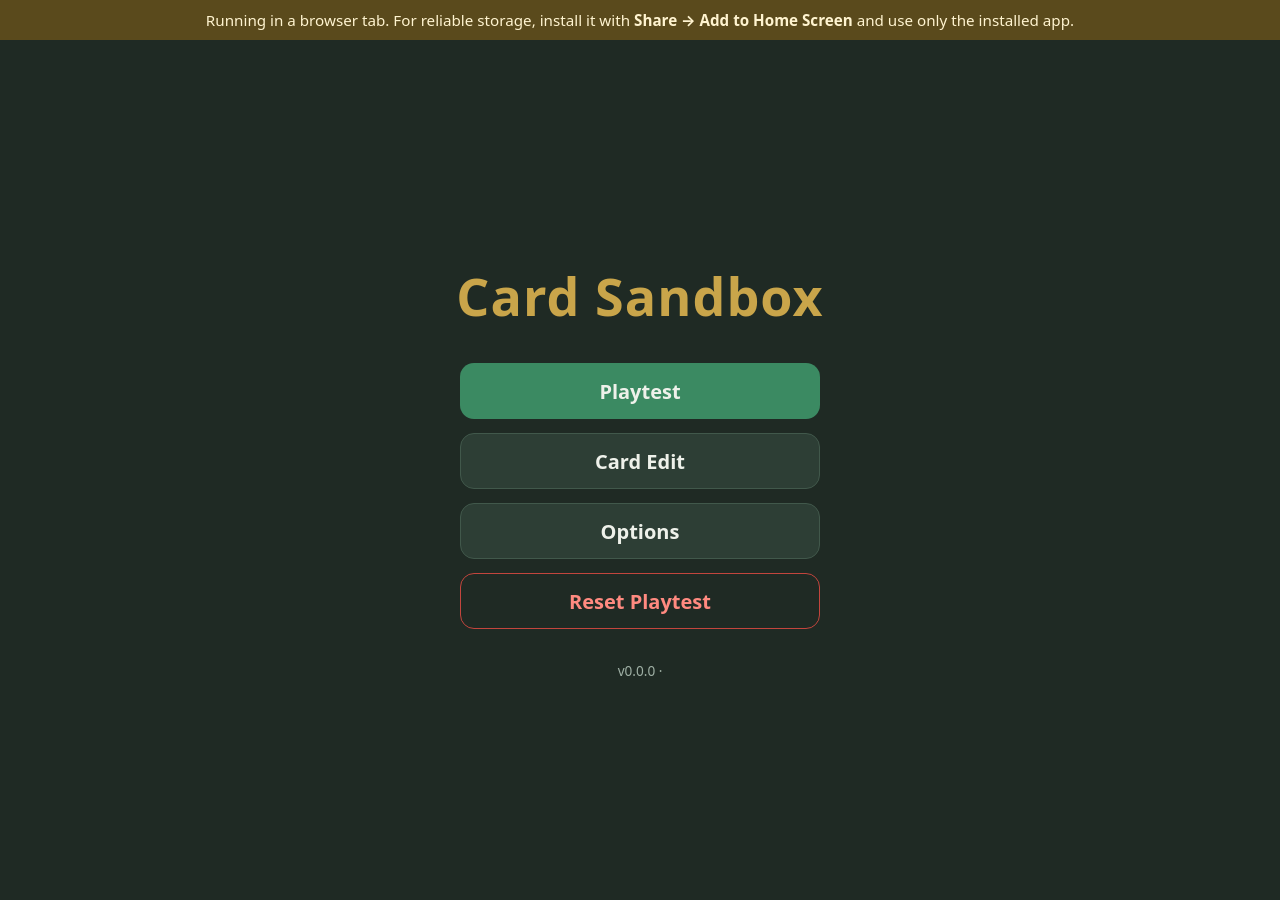
Test: App shell › asks for confirmation before resetting
Expected: the button "Card Edit" is shown, [460, 433, 820, 489]
Click the button "Reset Playtest".
click(640, 601)  # box [460, 573, 820, 629]
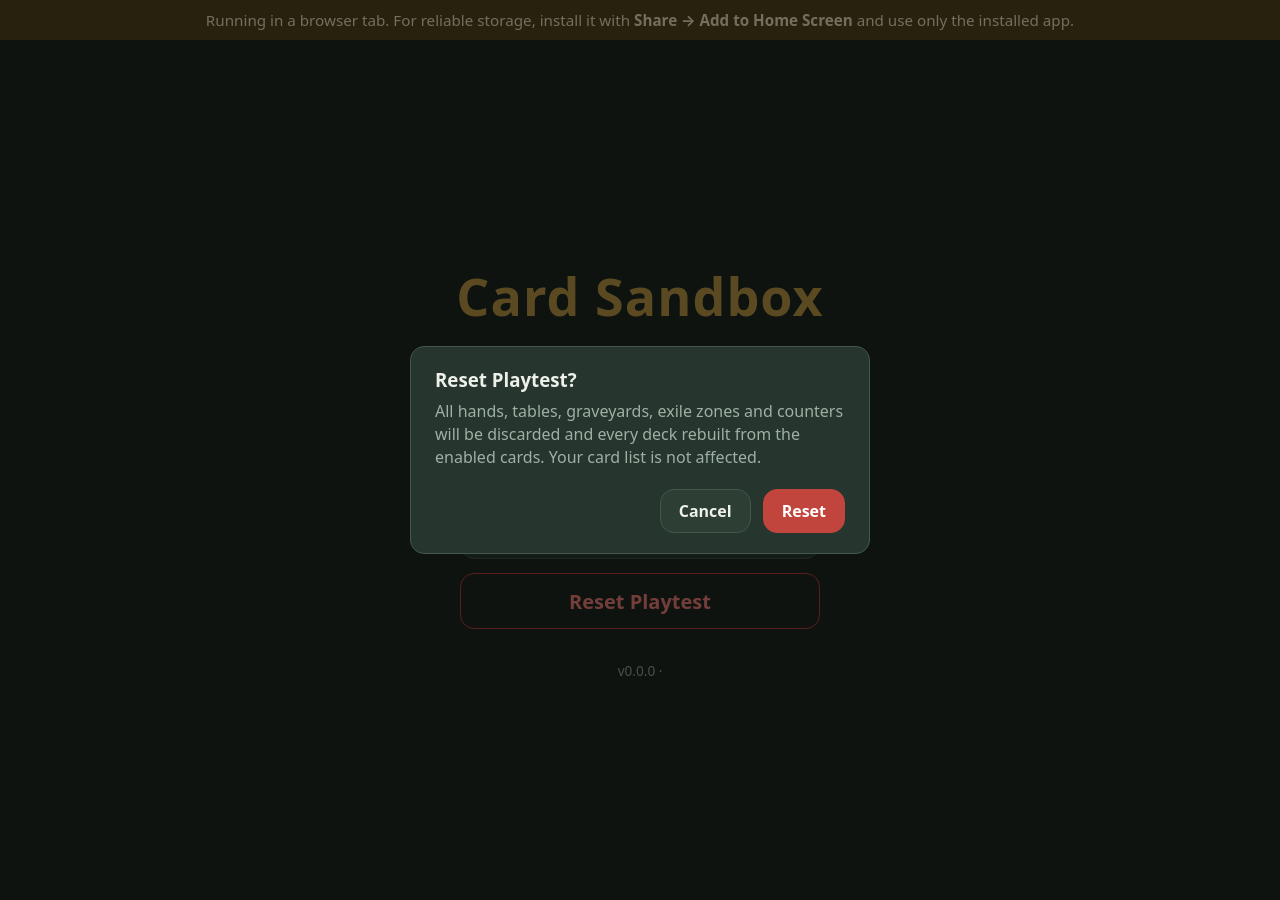
Expected: the dialog shows "Reset Playtest?", [435, 367, 577, 392]
Click the button "Cancel".
click(705, 511)  # box [660, 489, 751, 533]
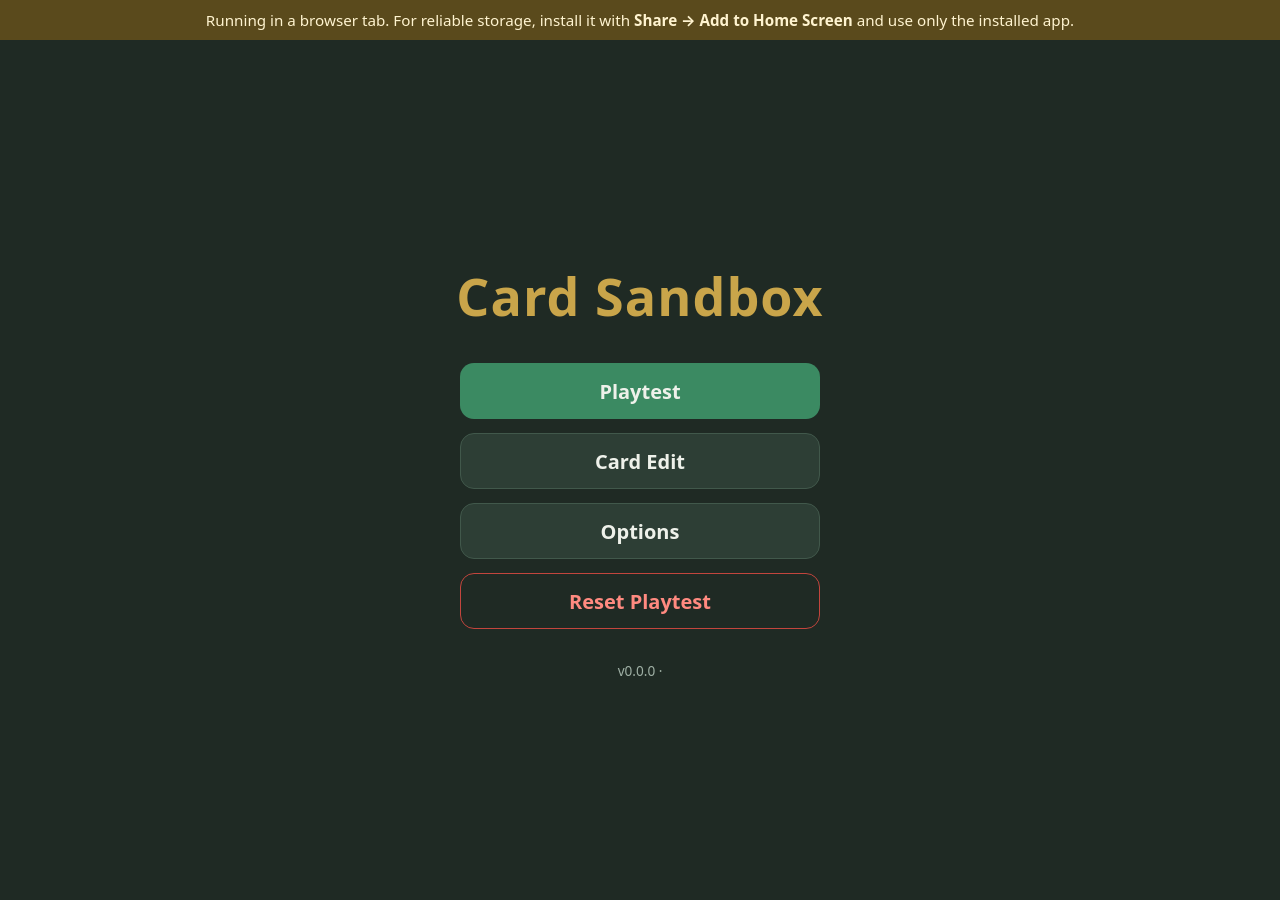
Expected: the dialog is gone
